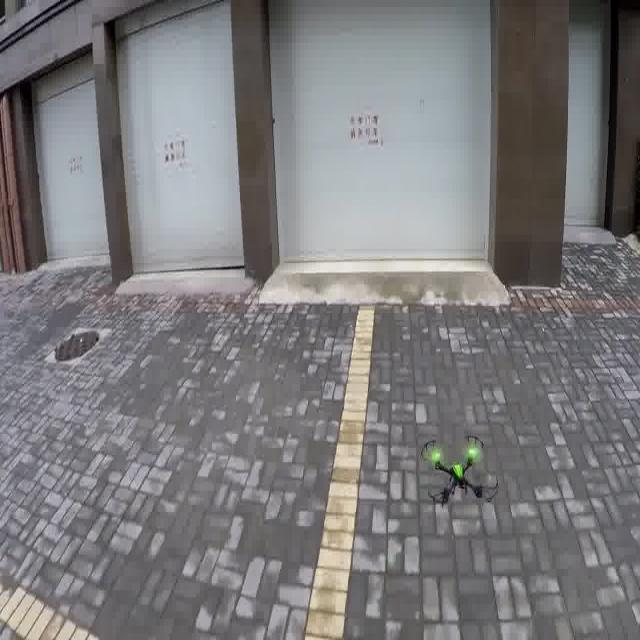drone: (416, 428, 502, 512)
